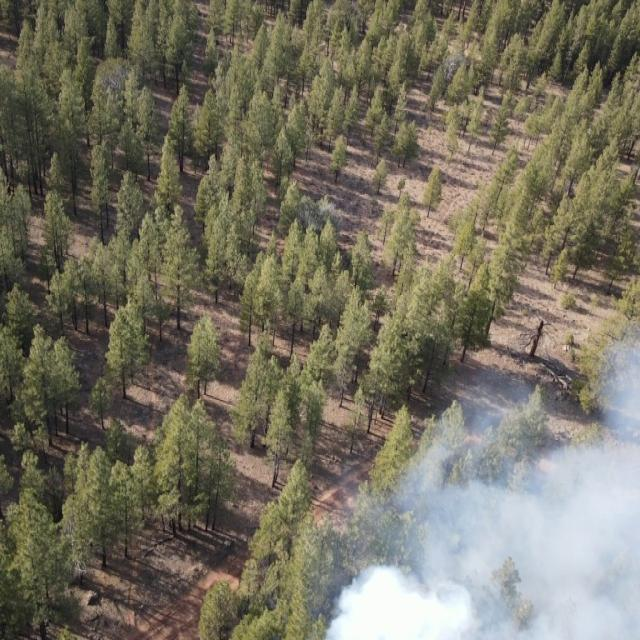smoke: (300, 441, 640, 640), (439, 370, 572, 441), (594, 332, 640, 443), (298, 199, 340, 235), (104, 64, 132, 101), (342, 0, 368, 32), (444, 50, 468, 80)
